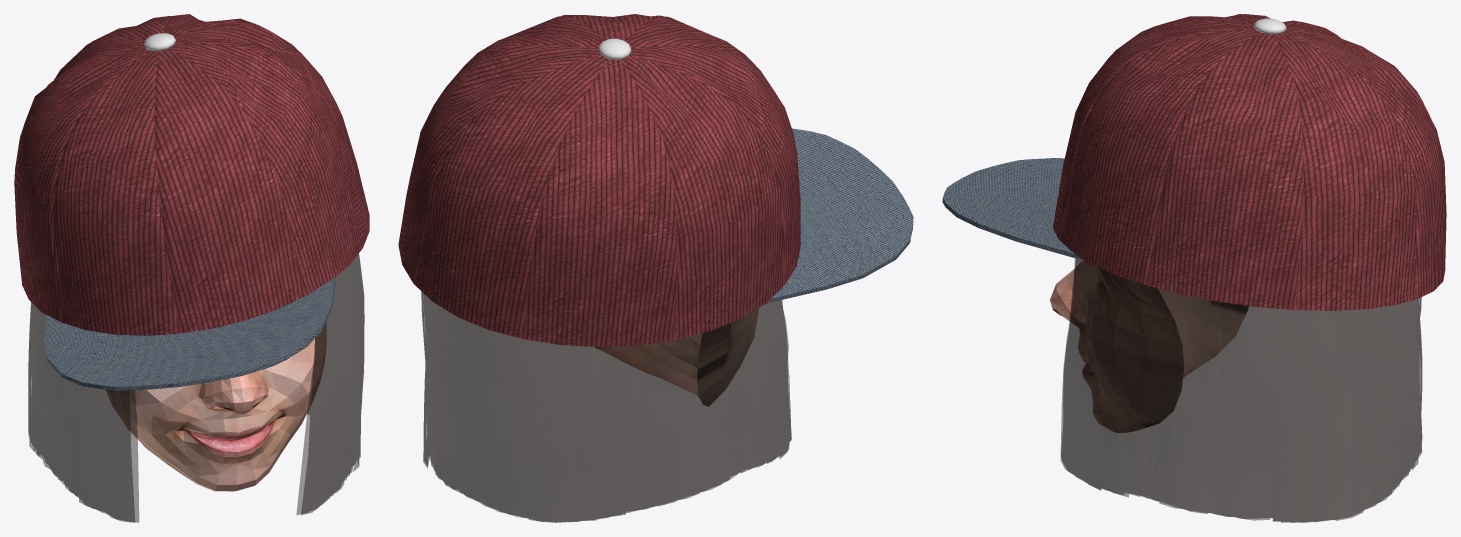
Rendered from avatar6.glb.
3 views of the same model, side by side, from view 1: azimuth 30°, elevation 25°; view 2: azimuth 150°, elevation 25°; view 3: azimuth 270°, elevation 25° (orthographic). The views are drawn at different scales.
Parts seen in each view (by area): view 1: l-poly.001, Female_Bob_Haircut.001, Female_Bob_Haircut, Mesh_0, Mesh_0.001; view 2: l-poly.001, Female_Bob_Haircut.001, Female_Bob_Haircut, Mesh_0, Mesh_0.001; view 3: l-poly.001, Female_Bob_Haircut.001, Female_Bob_Haircut, Mesh_0, Mesh_0.001.
Boxes of the visible parts, x1=… form: l-poly.001: x1=14, y1=14, x2=369, y2=390; Female_Bob_Haircut.001: x1=28, y1=254, x2=364, y2=522; Female_Bob_Haircut: x1=28, y1=254, x2=364, y2=522; Mesh_0: x1=106, y1=363, x2=310, y2=491; Mesh_0.001: x1=193, y1=322, x2=326, y2=475; l-poly.001: x1=398, y1=14, x2=913, y2=347; Female_Bob_Haircut.001: x1=421, y1=292, x2=791, y2=522; Female_Bob_Haircut: x1=421, y1=292, x2=791, y2=522; Mesh_0: x1=595, y1=312, x2=753, y2=406; Mesh_0.001: x1=624, y1=308, x2=758, y2=404; l-poly.001: x1=942, y1=14, x2=1446, y2=310; Female_Bob_Haircut.001: x1=1061, y1=258, x2=1421, y2=522; Female_Bob_Haircut: x1=1061, y1=259, x2=1421, y2=522; Mesh_0: x1=1050, y1=260, x2=1246, y2=432; Mesh_0.001: x1=1073, y1=268, x2=1248, y2=432.
Size of the model in its own units: 3.11 by 3.37 by 3.6.
Materials: 6 (5 with a texture image).
